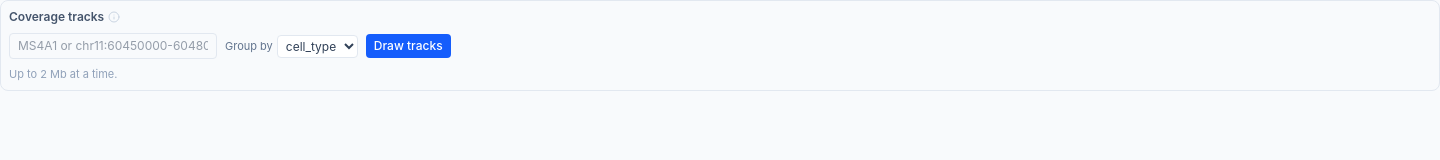
AtacCoverage › an empty box is a sentence, not a request
The image size is (1440, 160).
Step 1. Click the button "Draw tracks" → click(408, 46), box x1=366 y1=34 x2=451 y2=58
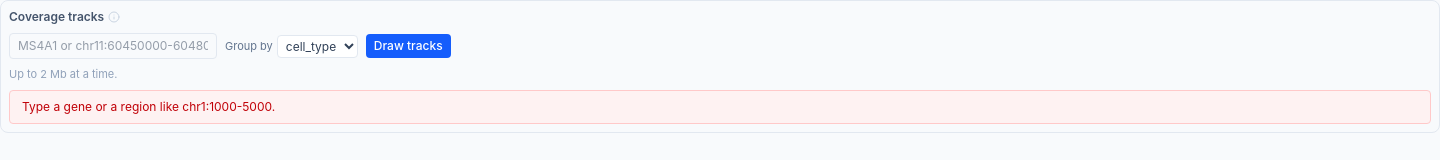
Expected: the text "Type a gene or a region like chr1:1000-5000." is shown, x1=9 y1=90 x2=1431 y2=124
